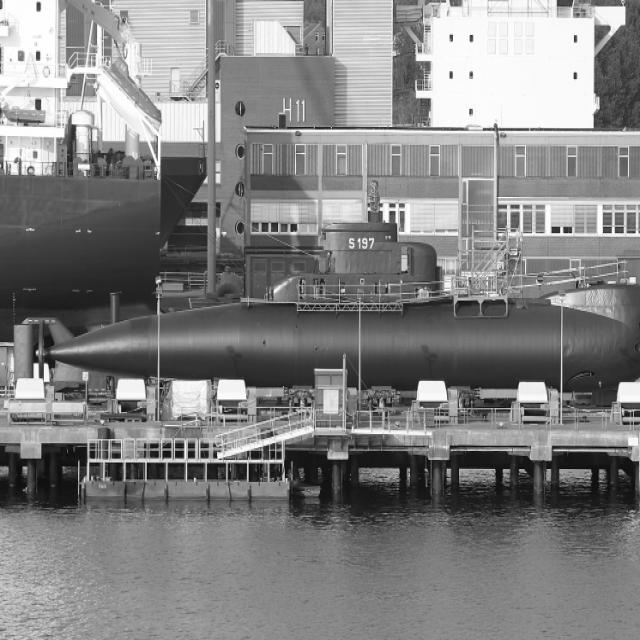submarine: (47, 225, 640, 388)
